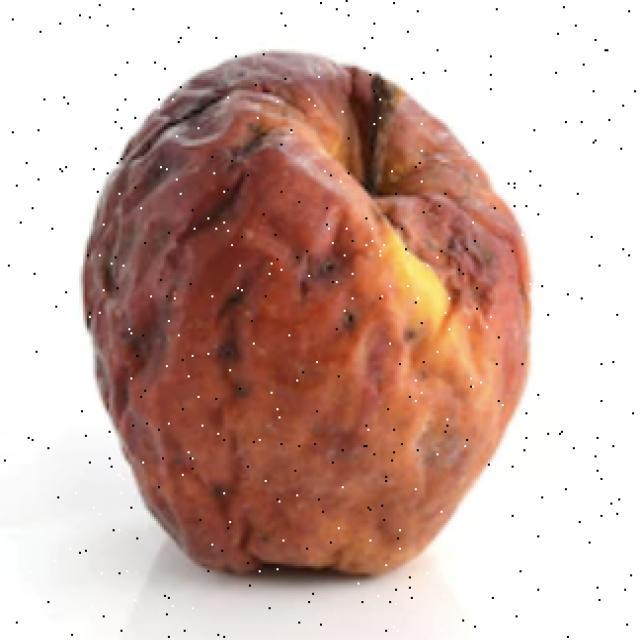Rotten: (65, 48, 540, 580)
